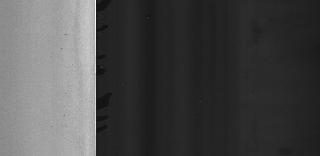inclusion: (61, 32, 69, 38), (60, 72, 68, 78), (70, 60, 76, 66)
silk spot: (1, 2, 30, 140)
